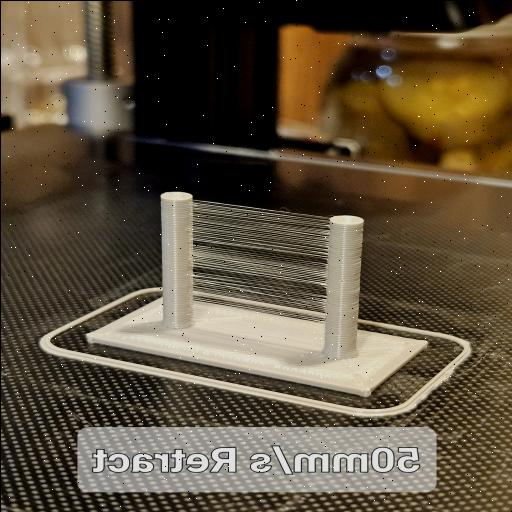stringing: (191, 199, 329, 323)
